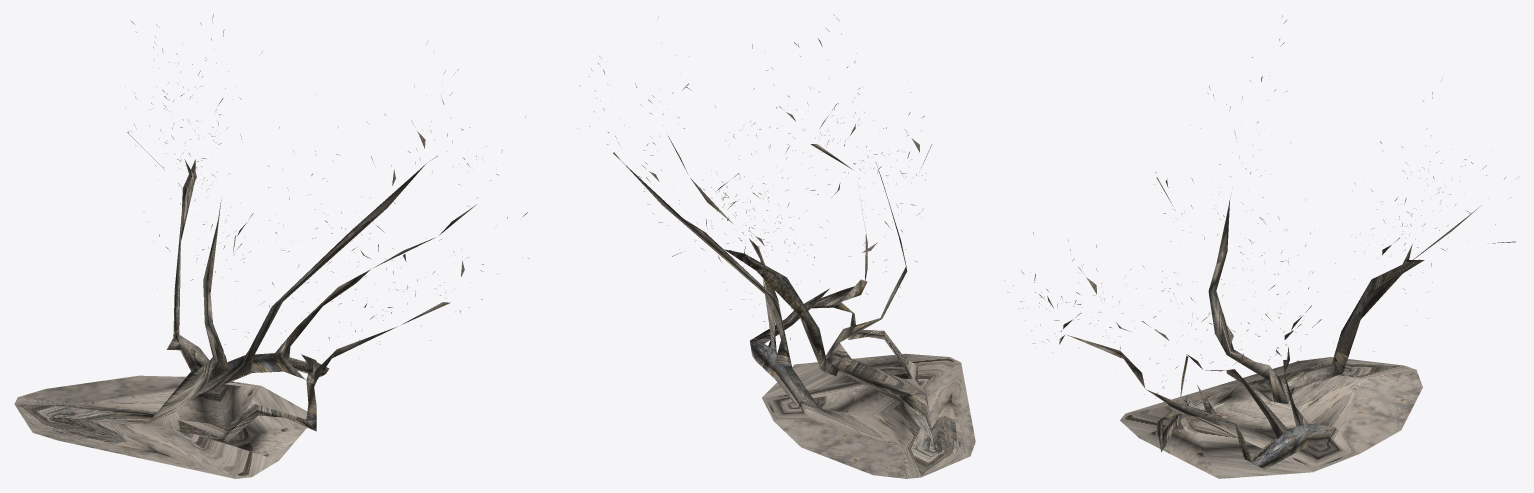
File: island_tree_03_wood.glb
The picture shows the model from 3 angles, left to right: view 1: azimuth 30°, elevation 25°; view 2: azimuth 150°, elevation 25°; view 3: azimuth 270°, elevation 25°; orthographic projection. The views are drawn at different scales.
Parts seen in each view (by area): view 1: island_tree_03_LOD0; view 2: island_tree_03_LOD0; view 3: island_tree_03_LOD0.
Part boxes in pixels (x1,y1,x2,y2): island_tree_03_LOD0: [14, 14, 529, 478]; island_tree_03_LOD0: [577, 14, 975, 478]; island_tree_03_LOD0: [1004, 15, 1518, 478].
Size of the model in its own units: 2.94 by 2.58 by 2.85.
2 materials, 2 textured.
